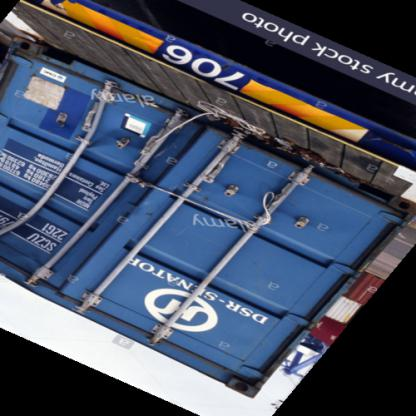Damage: (0, 67, 152, 296)
